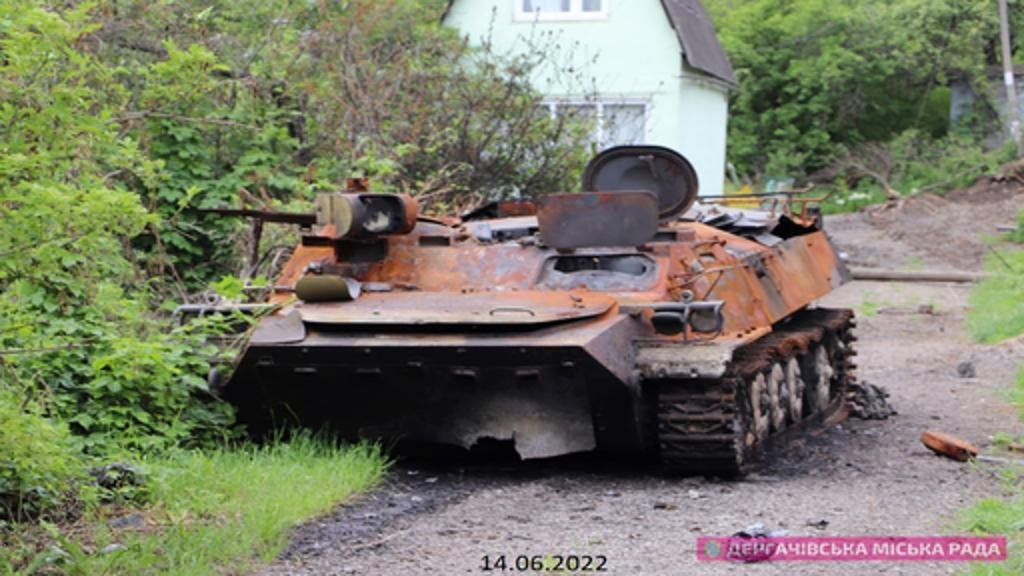APC-IFV: (188, 140, 864, 482)
